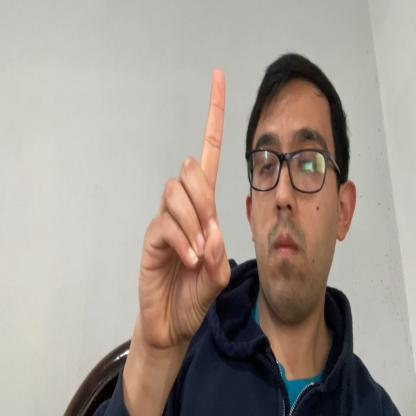D: (138, 67, 232, 348)
